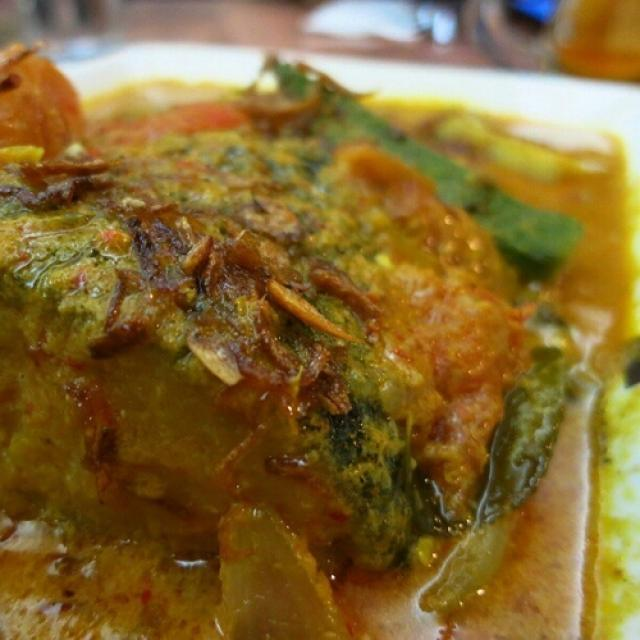熟制海鲜: (13, 28, 619, 613)
